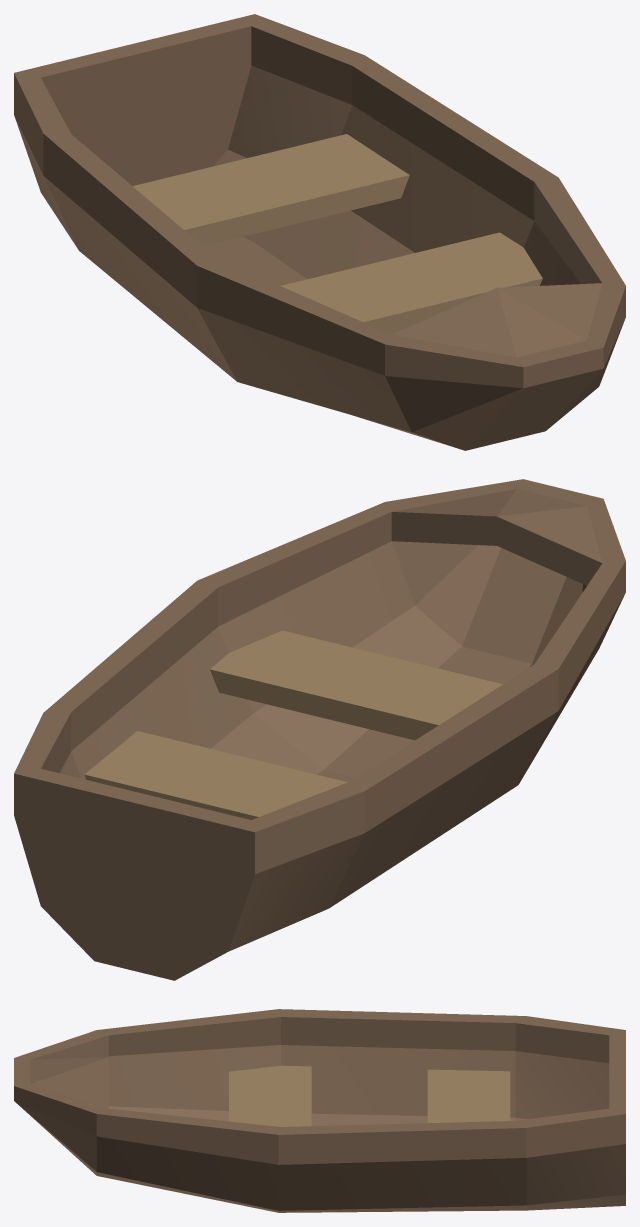
Rendered from Prop_Boat_1.obj.
The picture shows the model from 3 angles, top to bottom: view 1: azimuth 30°, elevation 25°; view 2: azimuth 150°, elevation 25°; view 3: azimuth 270°, elevation 25°; orthographic projection. The views are drawn at different scales.
Visible parts, largest first — view 1: object3, object2, object1; view 2: object3, object1, object2; view 3: object3, object1, object2.
Boxes of the visible parts, left/top/right/bottom form: object3: left=14, top=14, right=625, bottom=450; object2: left=133, top=134, right=409, bottom=246; object1: left=281, top=232, right=542, bottom=334; object3: left=14, top=479, right=625, bottom=980; object1: left=210, top=630, right=502, bottom=740; object2: left=84, top=731, right=347, bottom=819; object3: left=14, top=1009, right=625, bottom=1212; object1: left=229, top=1065, right=311, bottom=1126; object2: left=427, top=1069, right=510, bottom=1122.
Bounding box in the file's own units: 1.12 × 0.5625 × 2.31.
